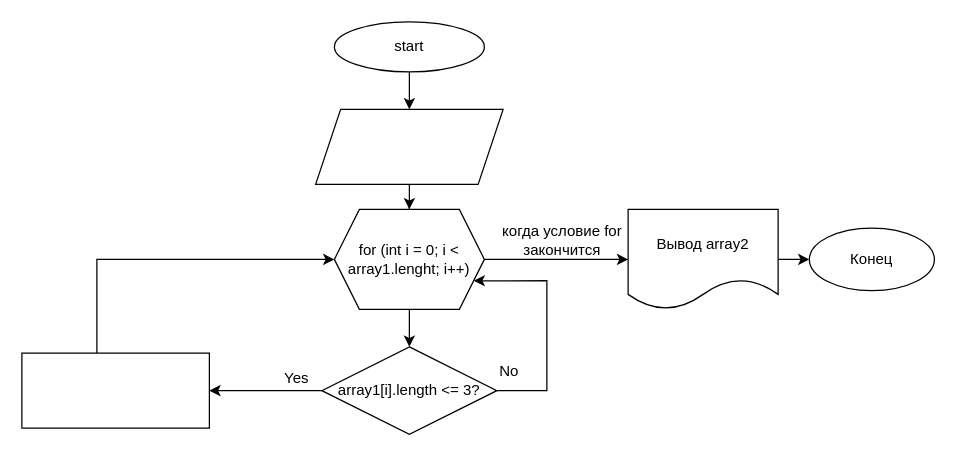
Image size: 956x456. Some labels were removed from this diagram. Here are the shapes that lost their labels. From the top down, the centre of each, then its label:
At (408,146): "ввод array1 и array2 count = 0".
At (115,390): "array2[count] = array1[i] count++;".
